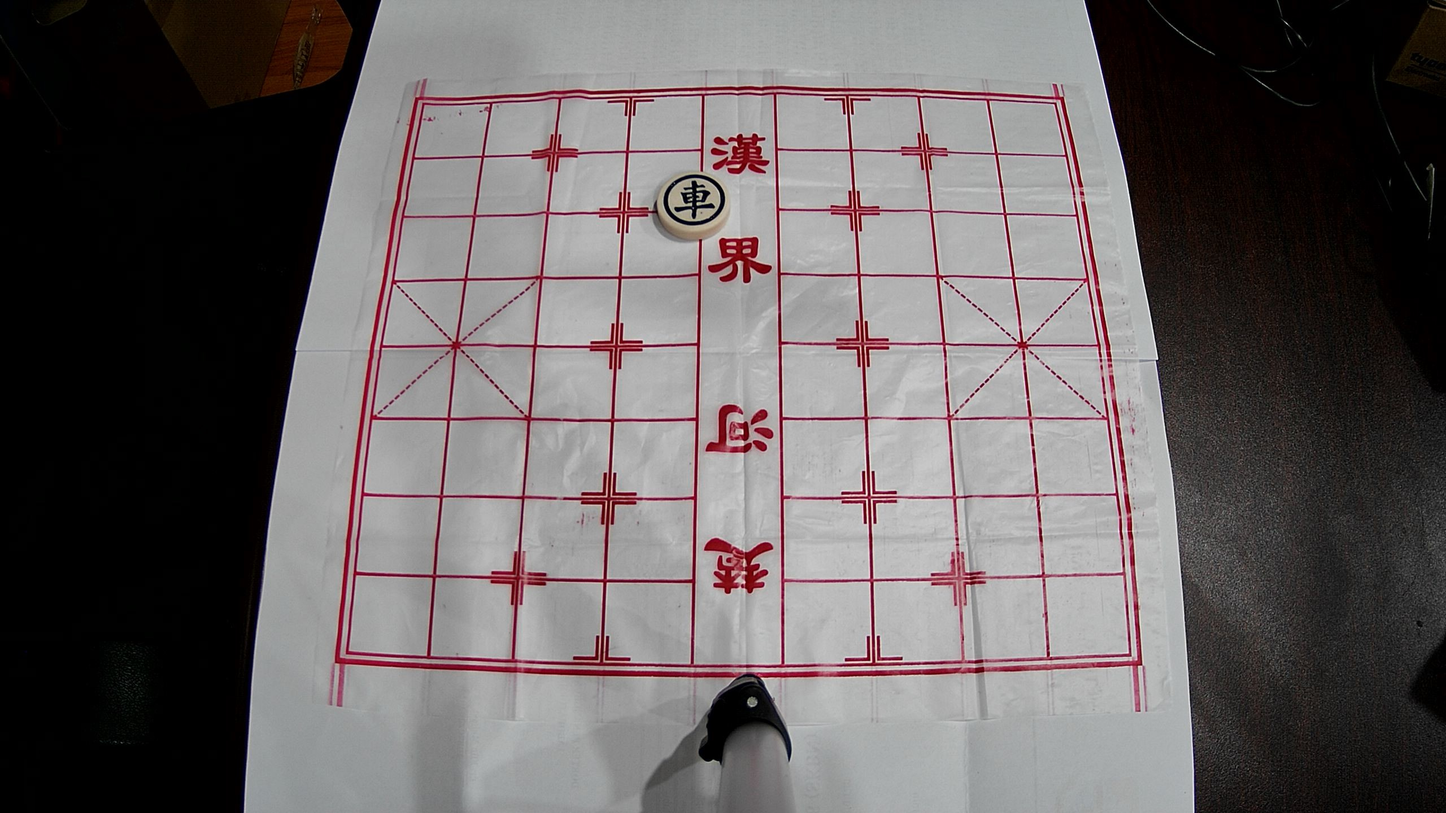Black-Chariot: (657, 171, 731, 239)
